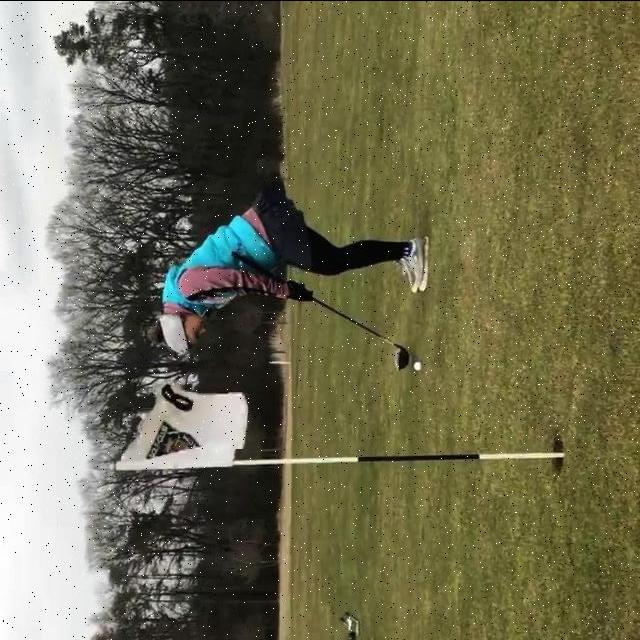golf ball: (414, 360, 423, 370)
golf club-handle: (230, 249, 412, 372)
golf club-head: (396, 347, 409, 371)
